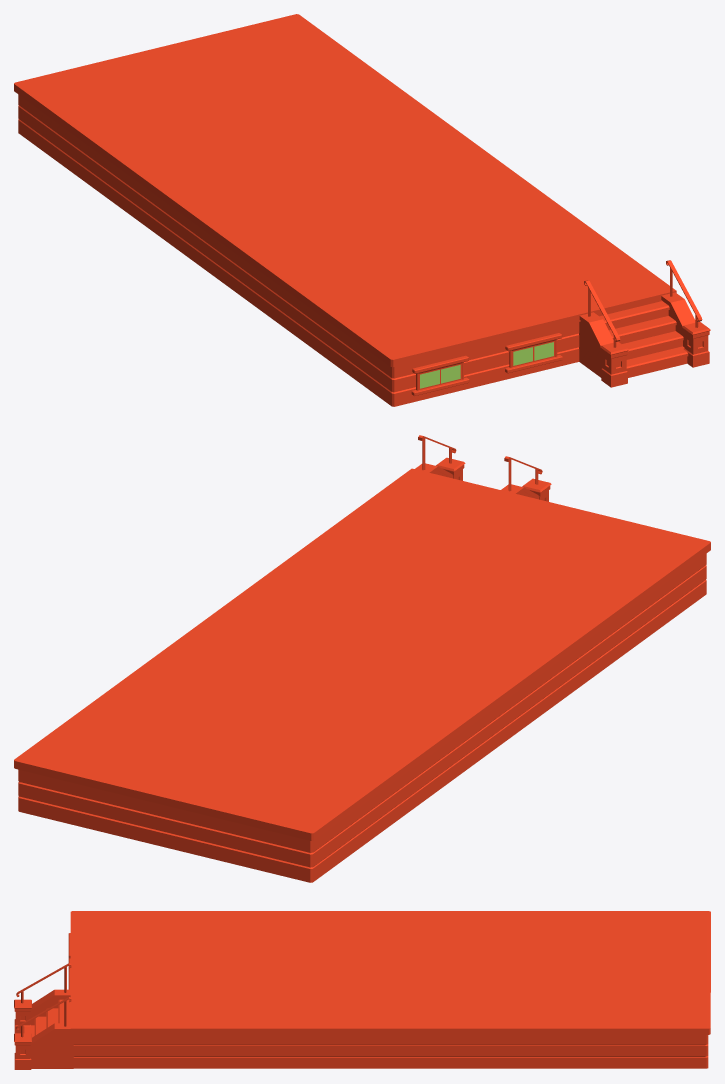
Rendered from SM_Squarehouse_Bottom_Small_B_F_City.fbx.
3 renders of one model, top to bottom at view 1: azimuth 30°, elevation 25°; view 2: azimuth 150°, elevation 25°; view 3: azimuth 270°, elevation 25°, orthographic. The views are drawn at different scales.
Parts seen in each view (by area): view 1: SM_Squarehouse_Bottom_Small_B_F_City; view 2: SM_Squarehouse_Bottom_Small_B_F_City; view 3: SM_Squarehouse_Bottom_Small_B_F_City.
Boxes of the visible parts, x1,y1,x2,y2 form: SM_Squarehouse_Bottom_Small_B_F_City: [14, 14, 710, 406]; SM_Squarehouse_Bottom_Small_B_F_City: [14, 435, 710, 882]; SM_Squarehouse_Bottom_Small_B_F_City: [14, 911, 710, 1069].
Bounding box in the file's own units: 6.13 × 1.67 × 15.32.
